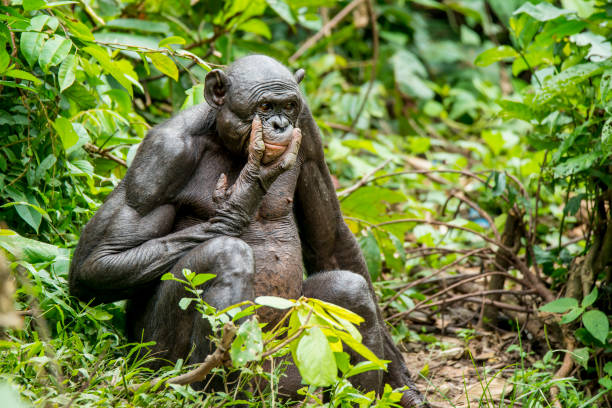chimpanzee: (191, 43, 319, 175)
